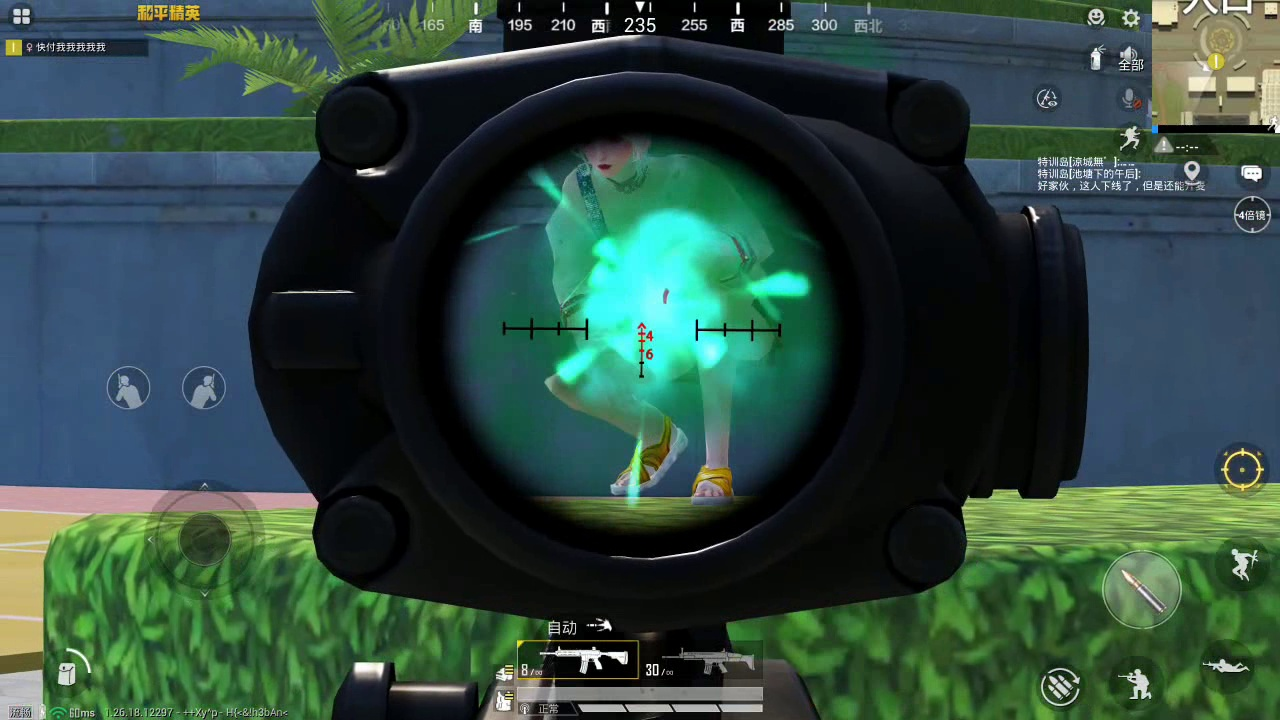enemy: (550, 133, 754, 514)
